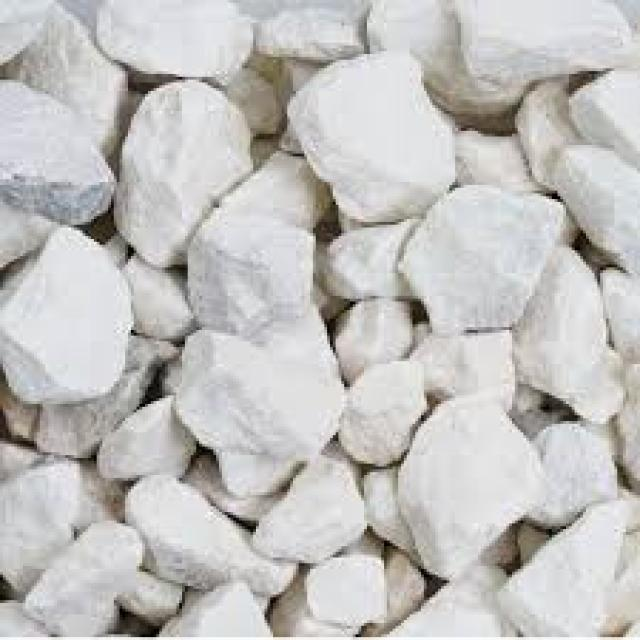Metamorphic: (3, 6, 637, 632)
